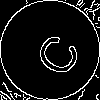C: (25, 25, 84, 81)
